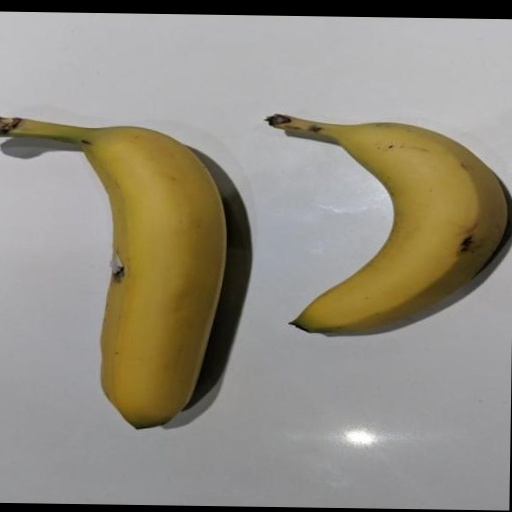fruit: (0, 117, 225, 427), (267, 115, 505, 332)
